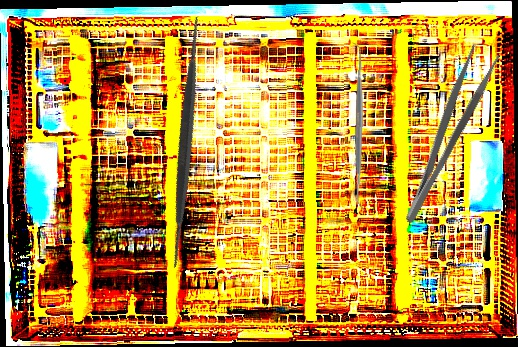Dressing Forceps: (386, 41, 504, 227)
Spatula Surgical: (53, 8, 320, 275), (349, 43, 370, 211)
